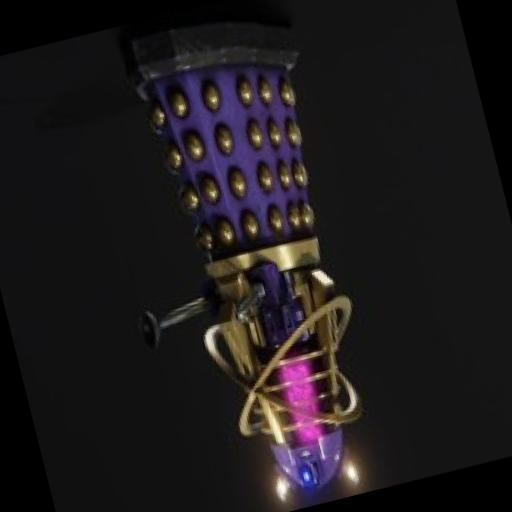dalek: (64, 0, 414, 512)
